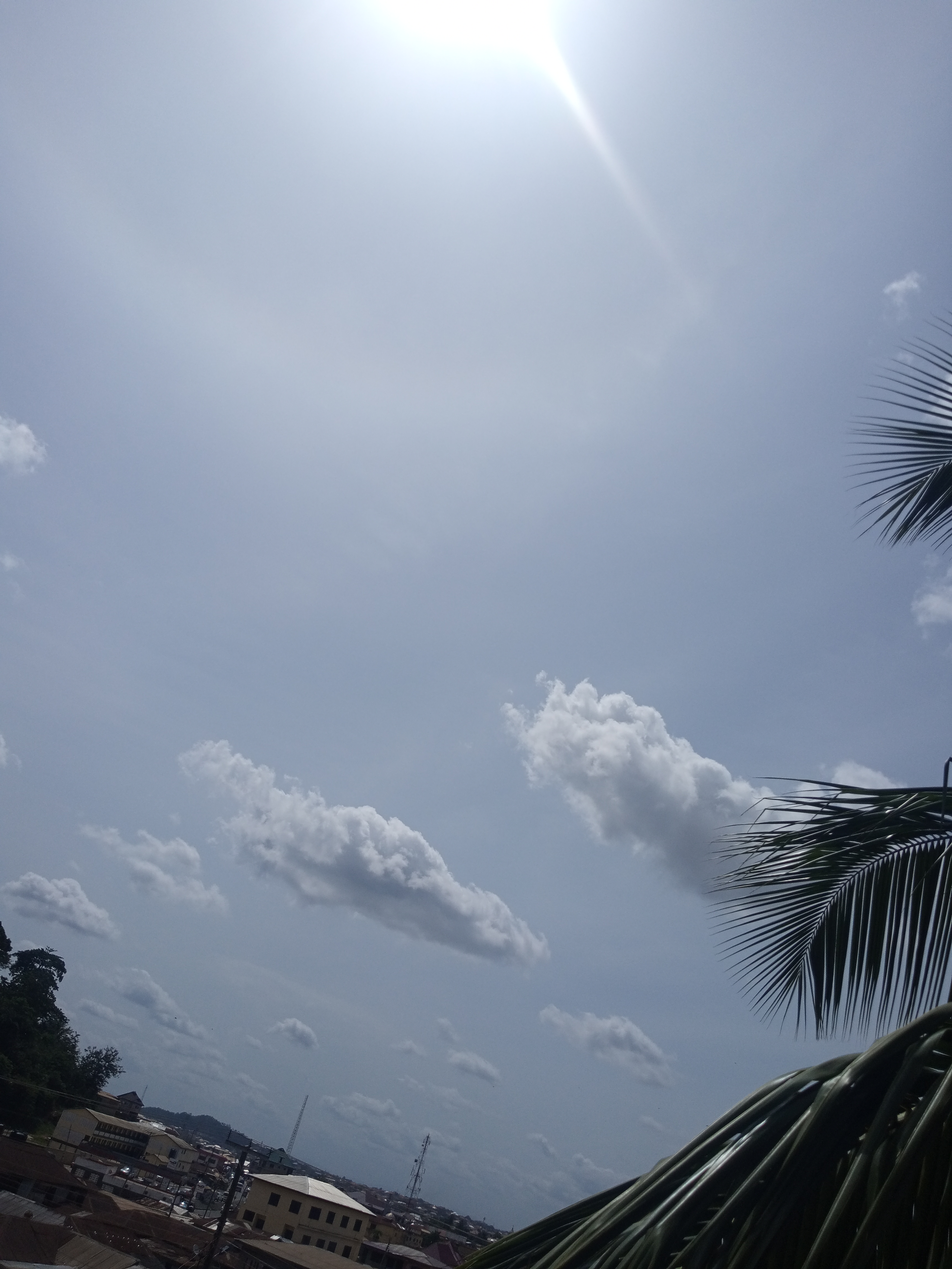sun: (215, 1, 672, 156)
